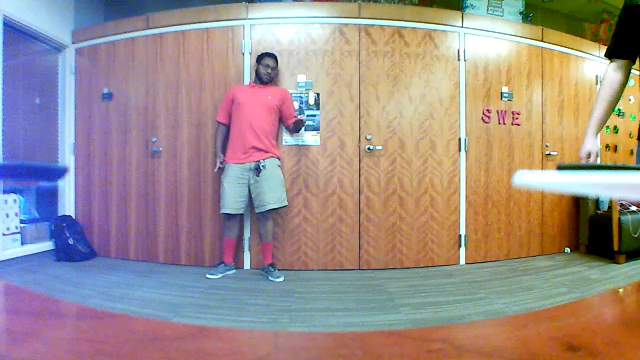land: (283, 107, 312, 140)
